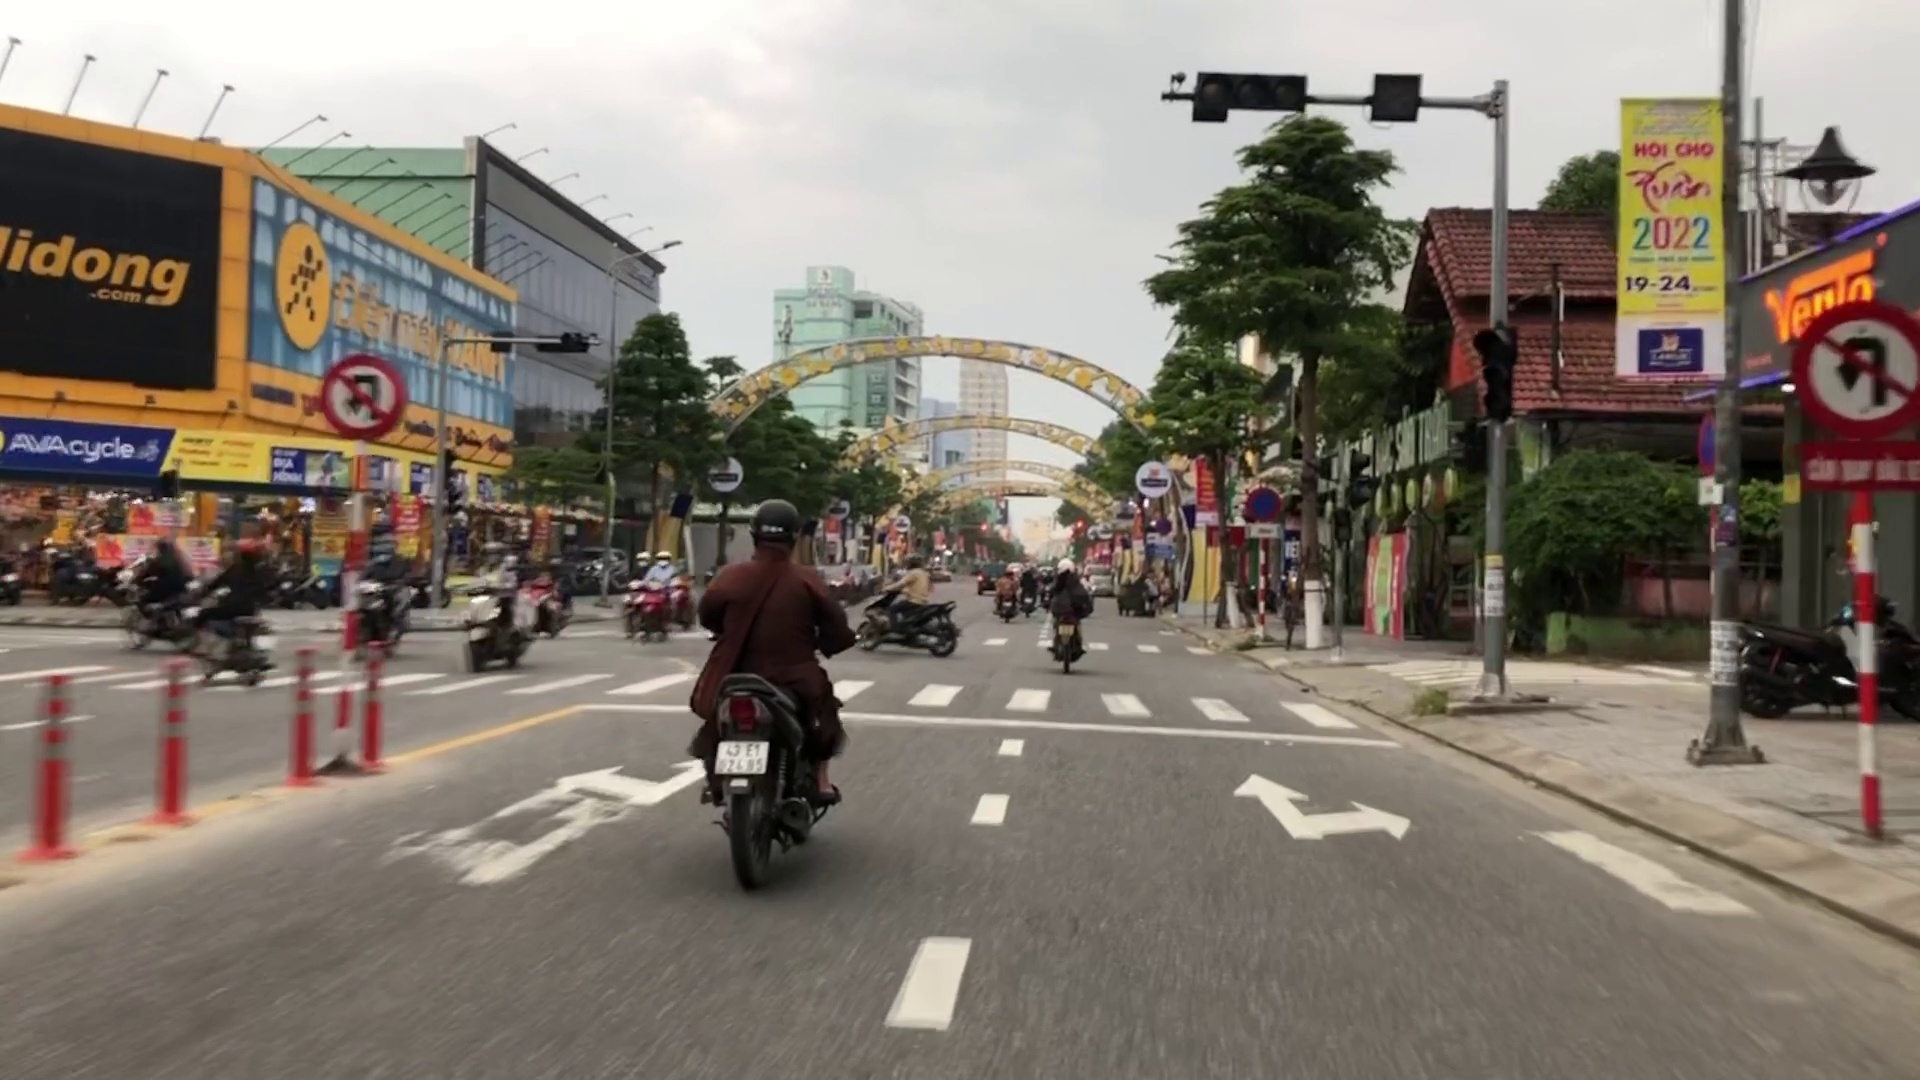Bien khac: (1803, 297, 1919, 444), (320, 356, 407, 440)
Cam do xe: (1245, 483, 1279, 524)
